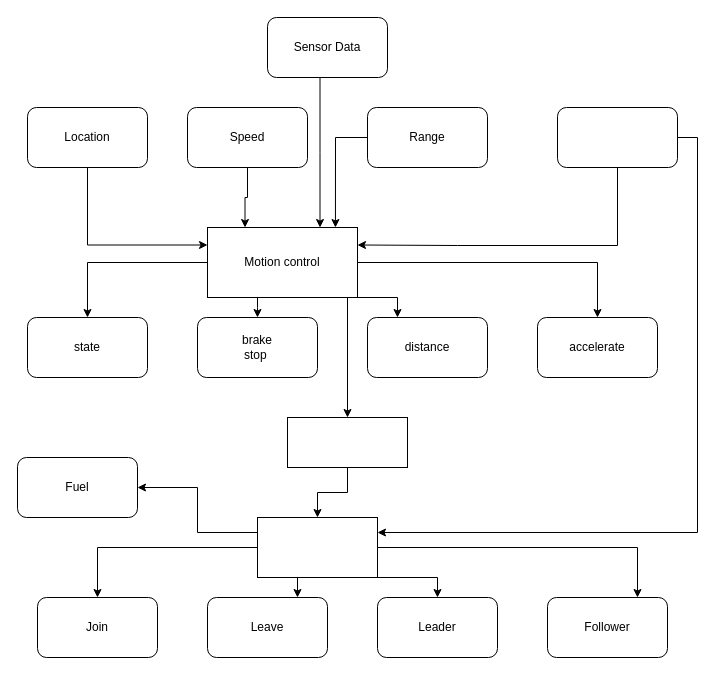
Some shapes in this 723 by 675 pixel diagram are drawn without their labels. Each missing label, with the box of its shape:
Flexible changes: (556, 106, 678, 168)
Main Controller: (286, 416, 408, 468)
Platooning: (256, 516, 378, 578)
